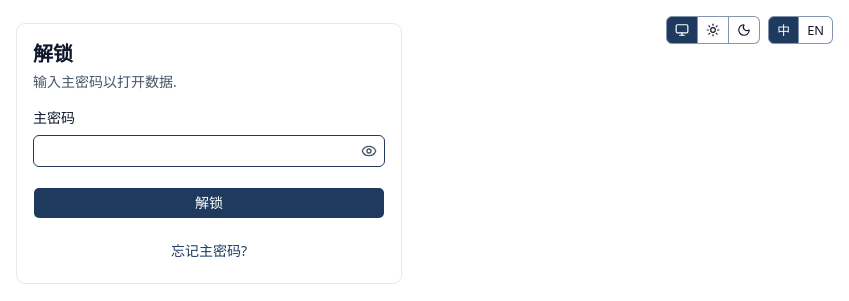
VaultGate 整屏页面与切换 › 在解锁页点击 English 后整屏页面切换成英文
Click the button with aria-label "English": (816, 30) [799,16,833,44]
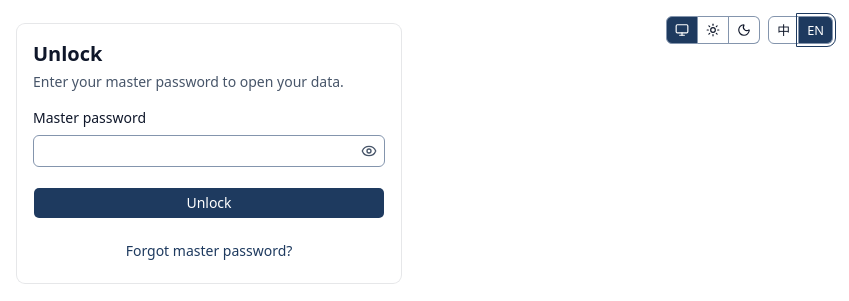
Check: the heading "Unlock" is shown, box [33,40,102,67]
